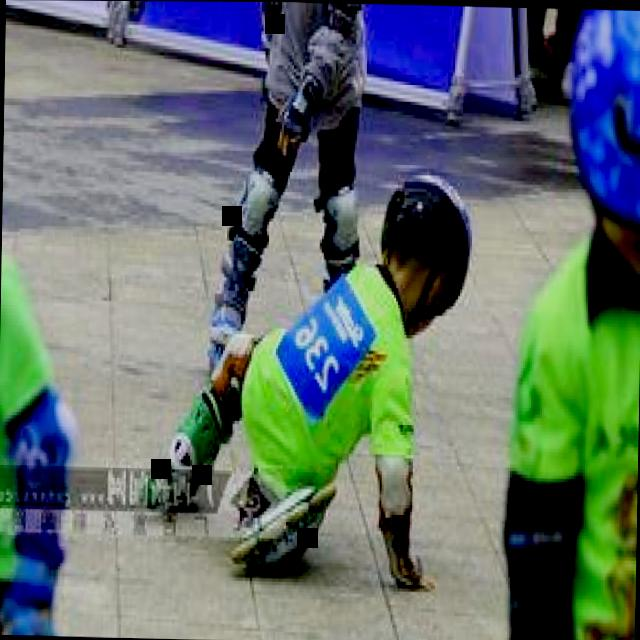Fall-Detected: (137, 155, 486, 586)
